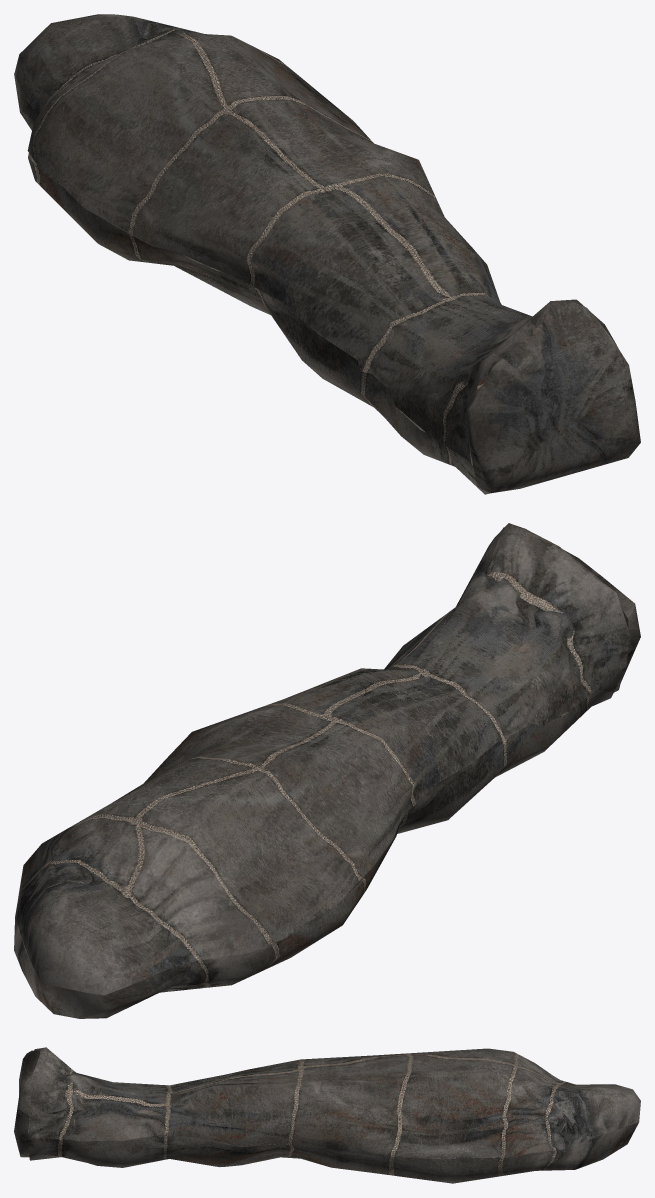
Rendered from corpse.FBX.
3 renders of one model, top to bottom at view 1: azimuth 30°, elevation 25°; view 2: azimuth 150°, elevation 25°; view 3: azimuth 270°, elevation 25°, orthographic. The views are drawn at different scales.
Visible parts, largest first — view 1: Corpse; view 2: Corpse; view 3: Corpse.
Boxes of the visible parts, bbox=[...] form: Corpse: bbox=[14, 14, 640, 494]; Corpse: bbox=[14, 523, 640, 1018]; Corpse: bbox=[14, 1047, 640, 1183].
Size of the model in its own units: 0.6213 by 0.3795 by 2.
1 material, 1 textured.
